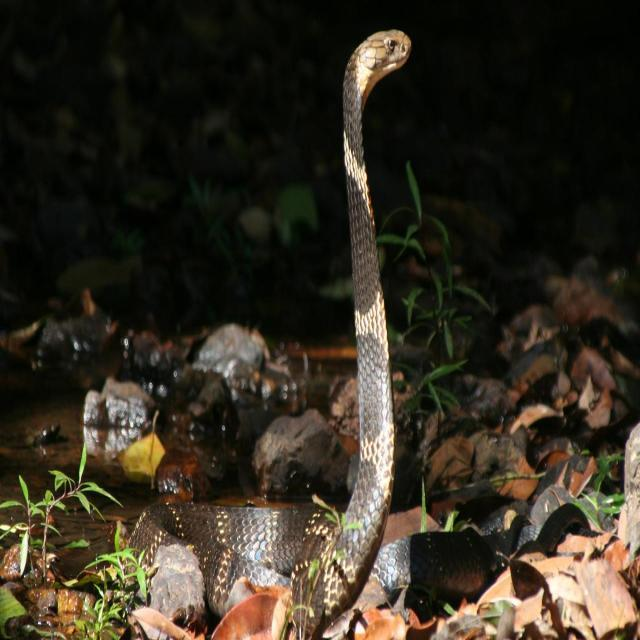Snake: (128, 16, 442, 640)
